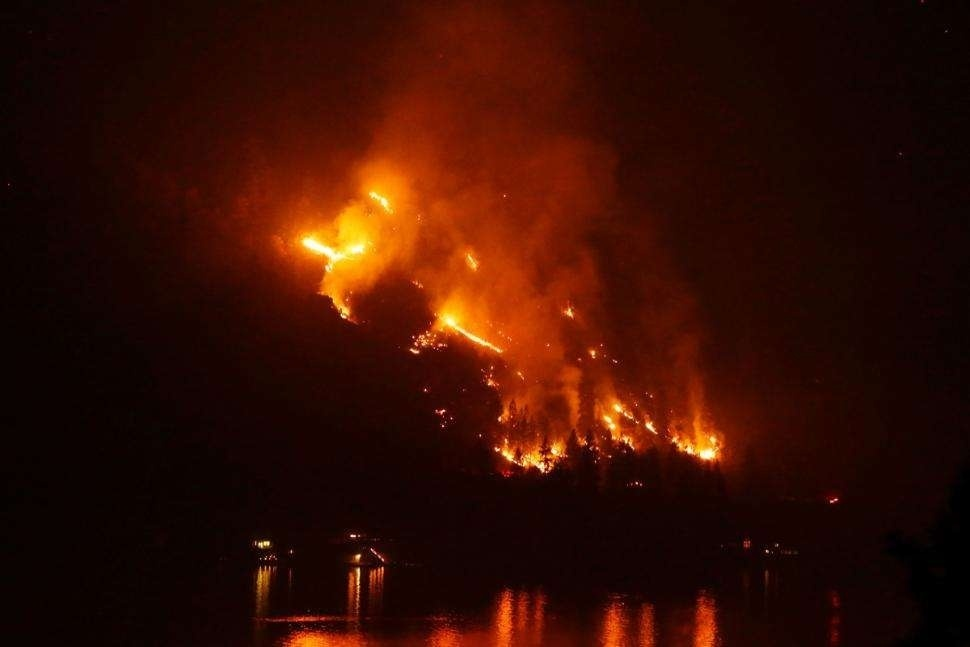fire: (490, 378, 727, 467), (295, 171, 405, 320), (418, 236, 506, 357)
